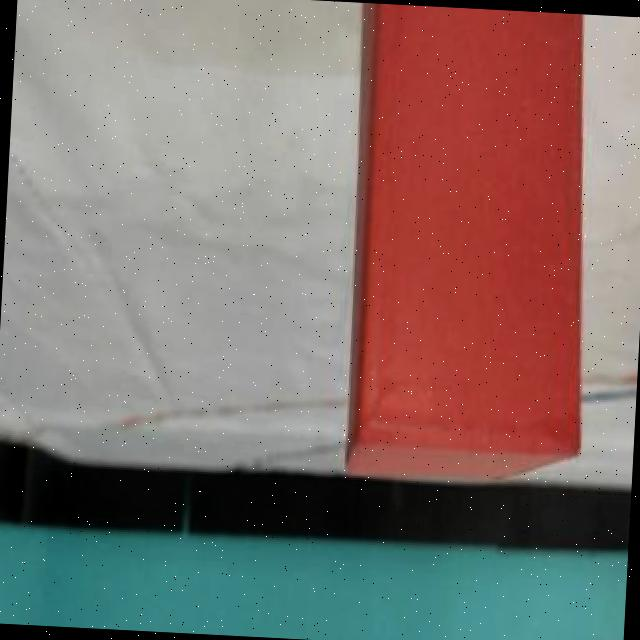redbox: (343, 2, 582, 484)
